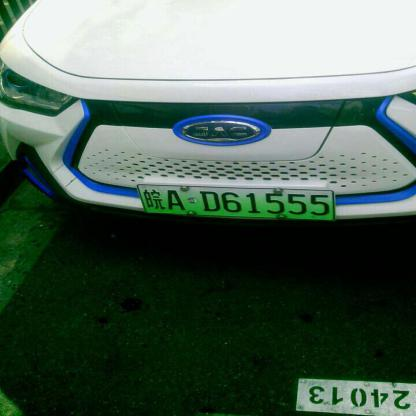lp: (136, 184, 335, 219)
